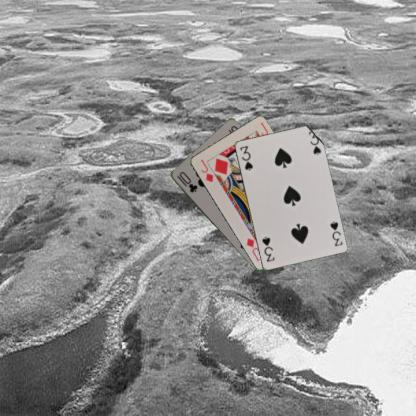10c: (174, 169, 198, 194)
3s: (237, 142, 254, 172), (327, 218, 344, 248)
Jd: (198, 157, 214, 183)
